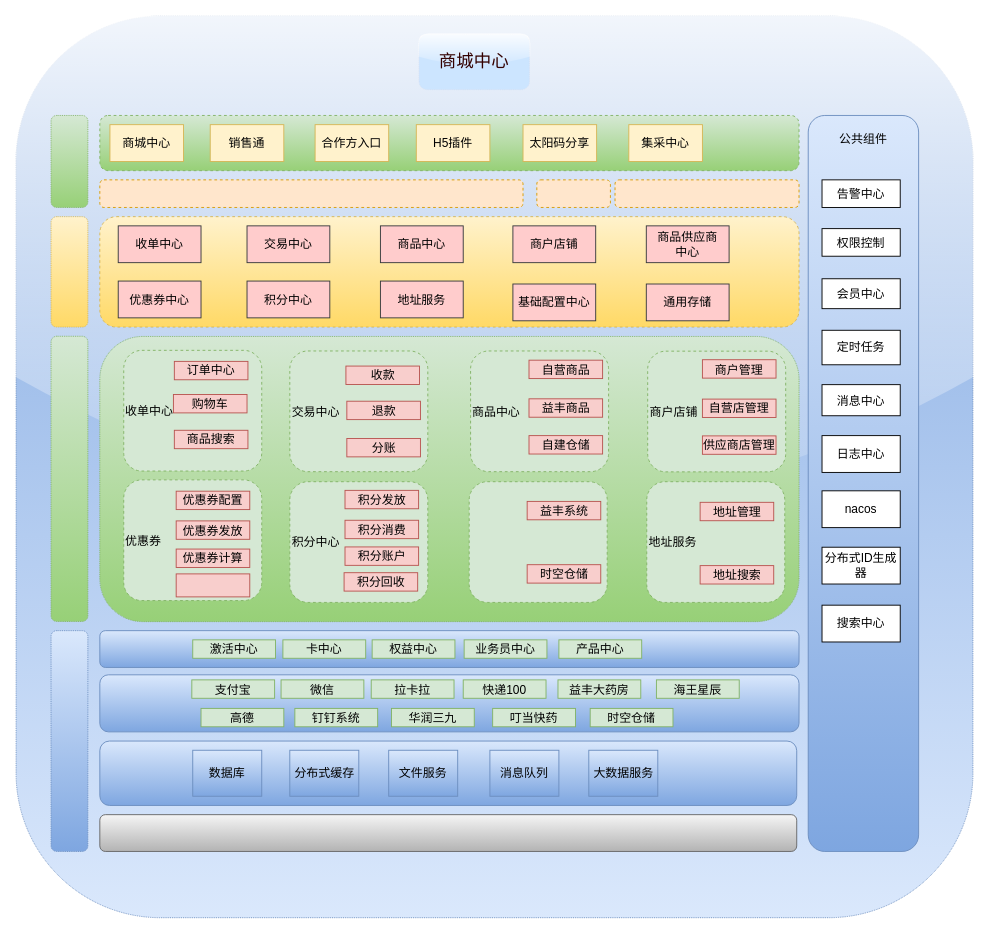
Image size: 989x934. Some labels were removed from this diagram. The shapes that lost their labels are listed below. From the top down, each one's box as (x1, y1, x2, y2) in pixels, then its label:
(50, 115, 88, 207): 接 入 层
(99, 179, 523, 207): RPC
(536, 179, 610, 207): 商户网关
(614, 179, 799, 207): api网关
(50, 216, 88, 327): 产 品 应 用 层
(50, 335, 88, 621): 业 务 中 台
(468, 481, 607, 602): 商品供应商
(175, 573, 250, 597): 优惠券消费
(99, 630, 799, 667): 内部依赖
(99, 674, 799, 732): 第三方系统
(50, 630, 88, 851): 基 础 设 施 层
(99, 740, 797, 805): 基础软件
(99, 814, 797, 851): 硬件层
